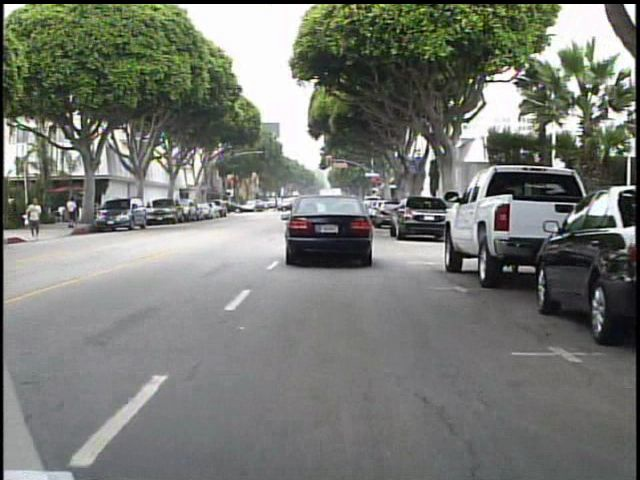person: (28, 195, 51, 244), (68, 195, 84, 230), (220, 196, 236, 220), (281, 193, 284, 217)
